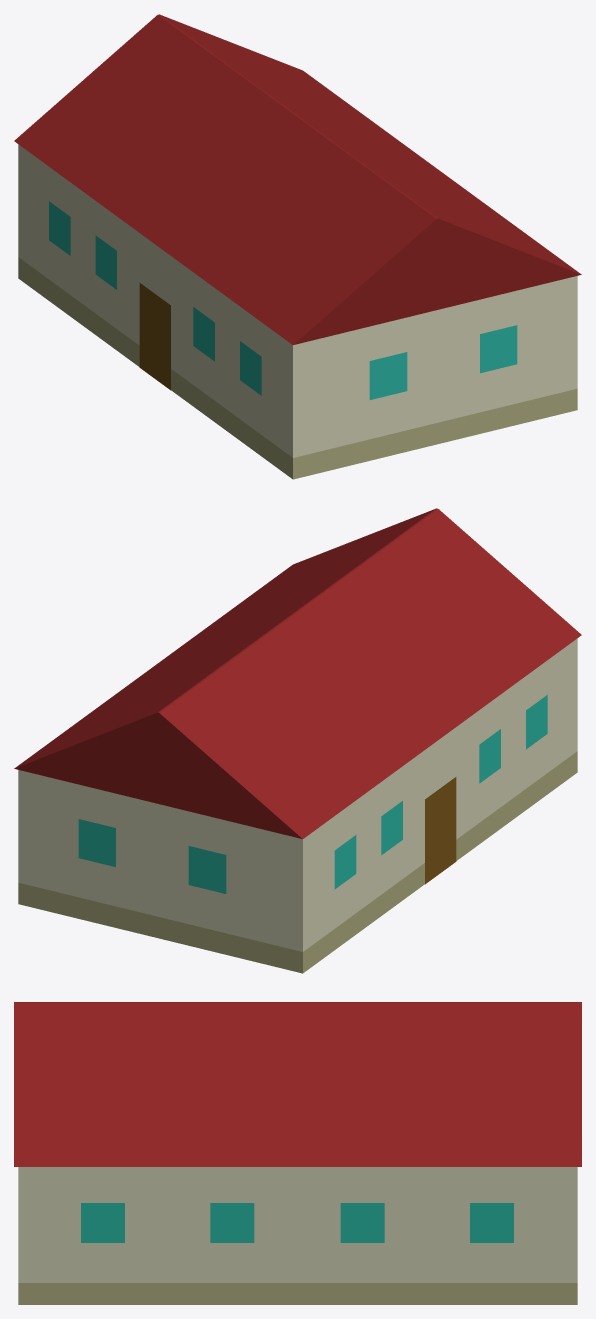
Rendered from House1.fbx.
3 renders of one model, top to bottom at view 1: azimuth 30°, elevation 25°; view 2: azimuth 150°, elevation 25°; view 3: azimuth 270°, elevation 25°, orthographic.
Visible parts, largest first — view 1: House1; view 2: House1; view 3: House1.
Boxes of the visible parts, x1,y1,x2,y2 form: House1: (14, 14, 581, 479); House1: (14, 508, 581, 973); House1: (14, 1002, 581, 1304).
Bounding box in the file's own units: 197 × 148 × 329.
